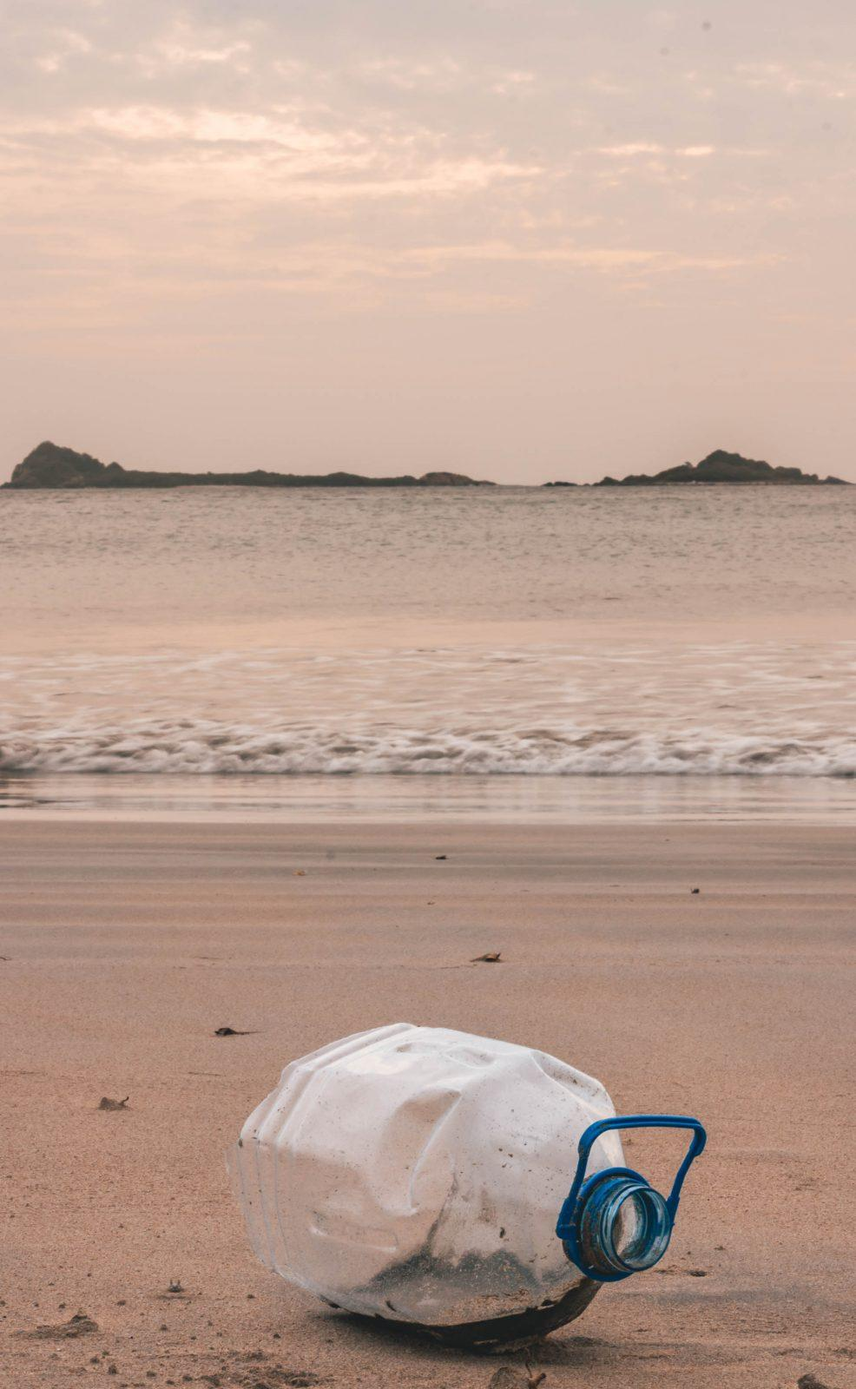plastic: (203, 982, 731, 1373)
